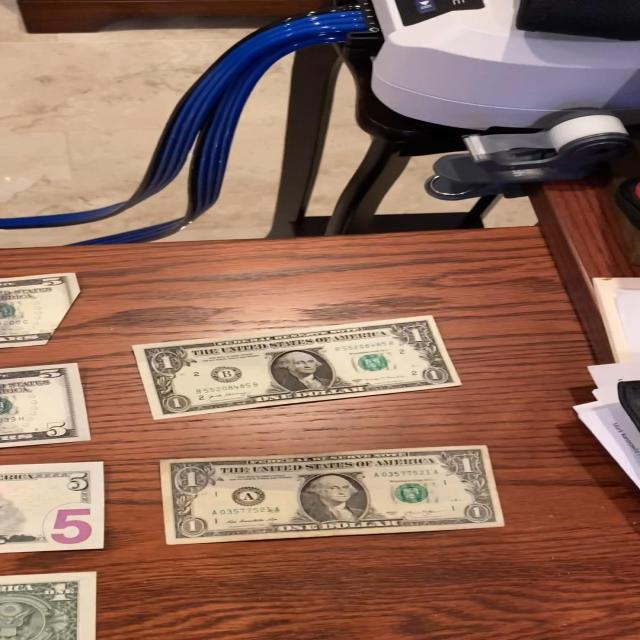1-Front: (133, 304, 464, 427), (163, 442, 507, 547)
5-Back: (0, 466, 112, 561)
5-Front: (0, 361, 94, 455), (0, 265, 88, 353)
